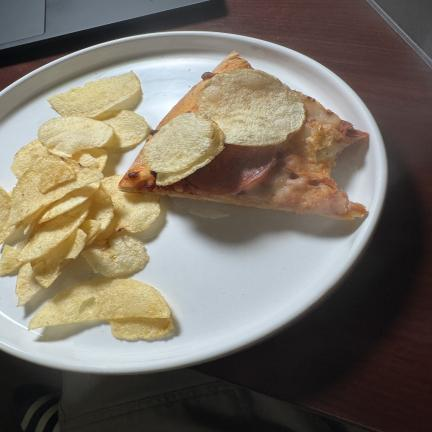chips: (0, 73, 159, 305), (197, 69, 305, 146), (29, 279, 170, 329), (9, 161, 103, 224), (143, 113, 223, 172), (47, 72, 141, 117), (19, 201, 89, 261), (101, 175, 160, 238), (156, 130, 223, 185), (31, 229, 86, 287), (38, 117, 113, 157), (82, 235, 148, 277), (38, 182, 99, 223), (97, 110, 149, 148), (31, 155, 76, 193), (82, 190, 113, 244), (11, 140, 50, 178), (109, 318, 173, 339), (16, 263, 43, 306), (0, 240, 27, 275), (72, 148, 108, 172), (0, 186, 14, 243), (0, 245, 22, 275), (80, 219, 101, 244)
pizza: (119, 52, 368, 219)
plate: (0, 32, 386, 373)
